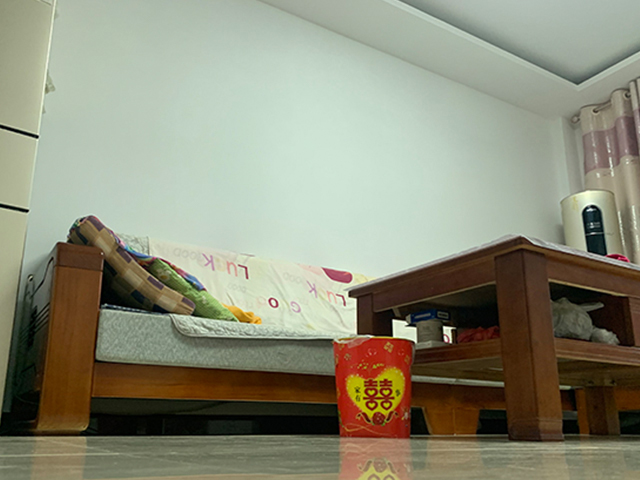sofa: (3, 214, 352, 435)
table: (346, 233, 640, 445)
trashcan: (331, 333, 415, 440)
